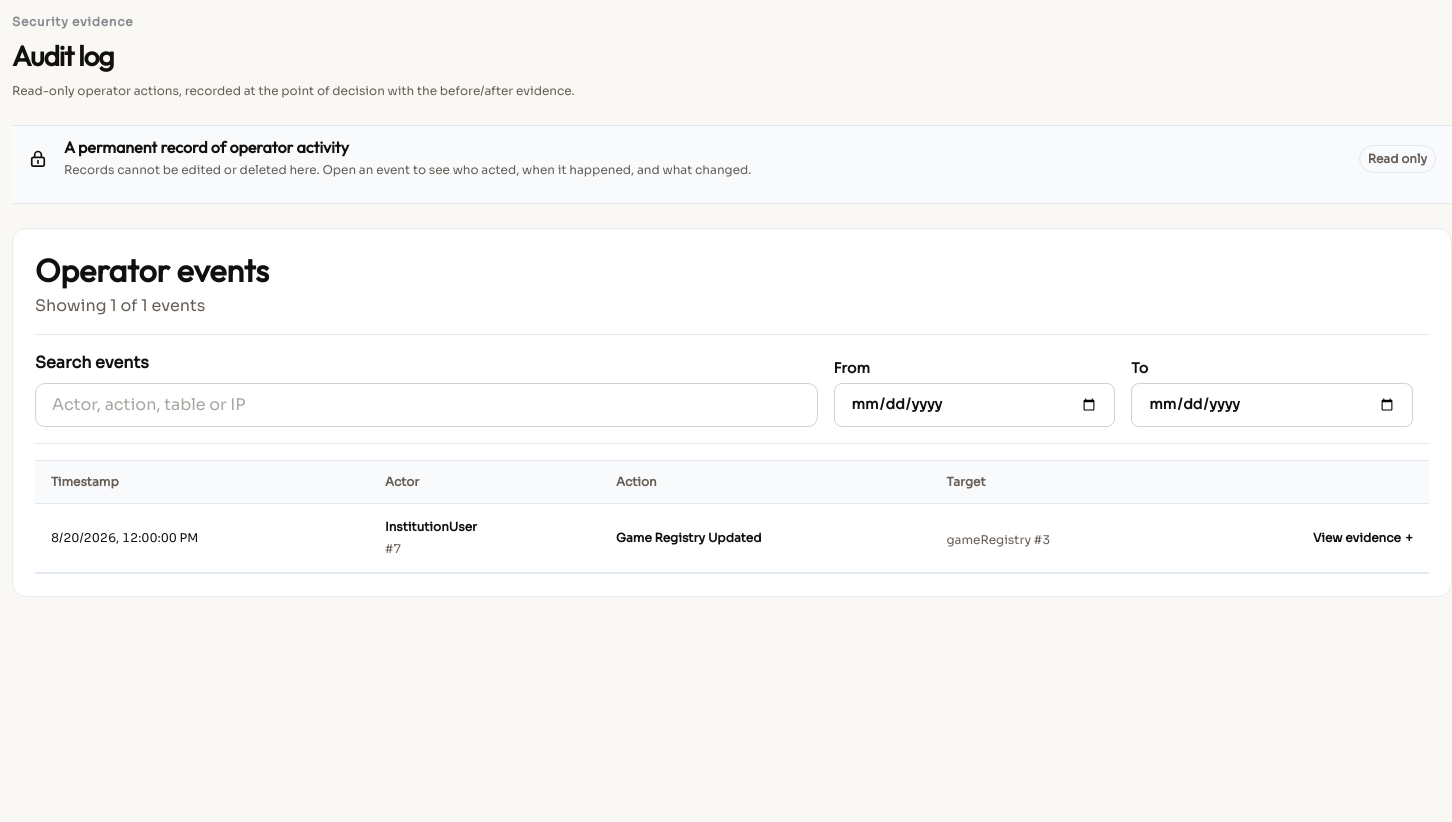
Scenario: AuditLog › re-fetches from the real endpoint with a date range instead of filtering fixtures
This screenshot has width=1452, height=822.
Check: the column heading "Game Registry Updated" is shown, box [600, 504, 930, 572]
Type "2026-08-01" into the date field labelled "From" at point(974, 404), box [834, 382, 1115, 426]
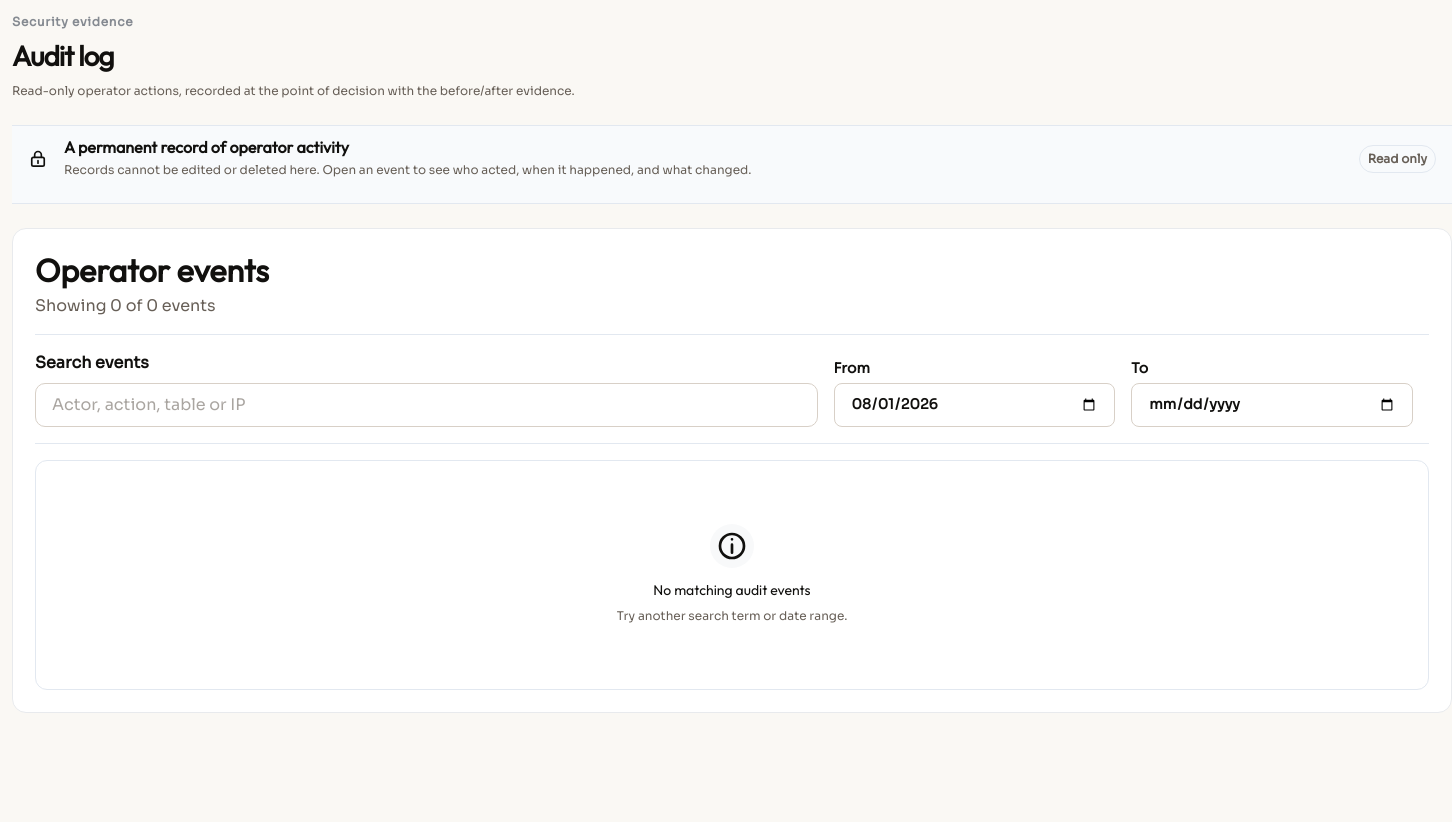
Check: the heading "No matching audit events" is shown, box [653, 580, 811, 598]
